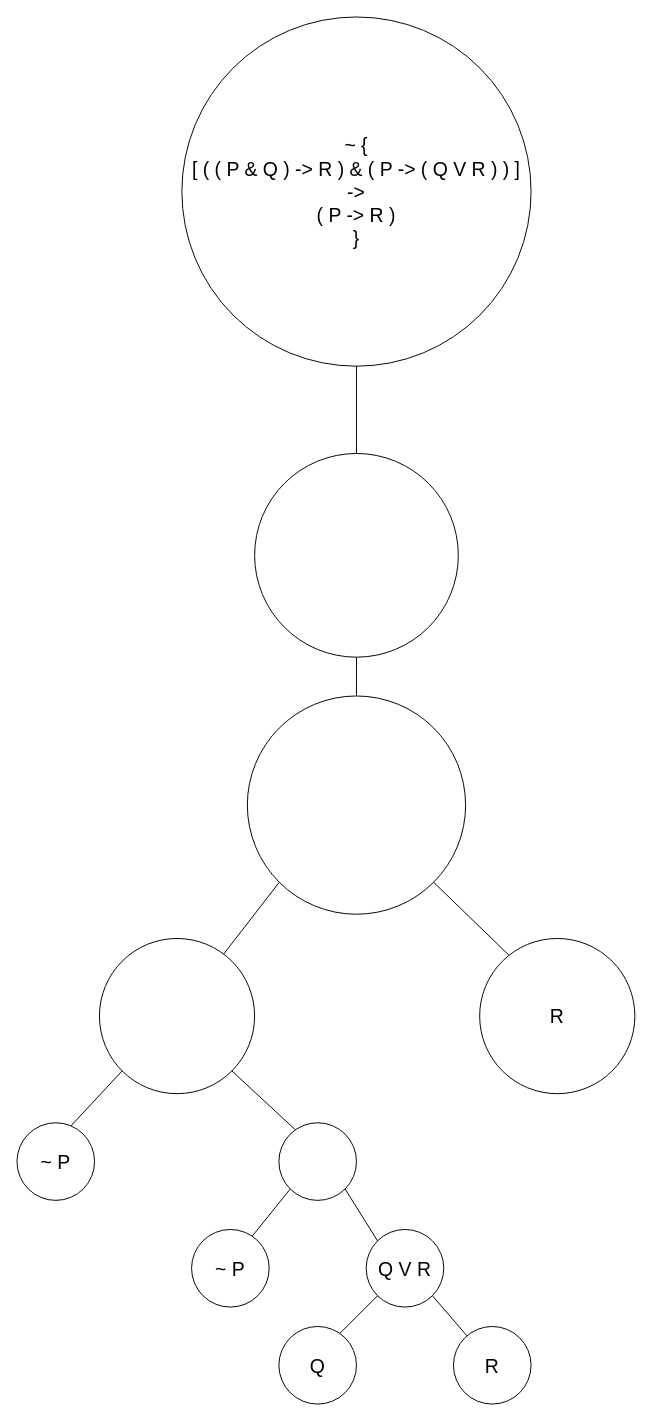
The diagram is 652 pixels wide and 1421 high, and some of its shapes have lost their labels. The shapes that lost their labels are listed below. From the top down, each one's centre as x and y in pixels, then its label:
the point at 356,555: ( ~ P V ~ Q ) V R ~ P V ( Q V R ) P & ~ R
the point at 356,804: ( ~ P V ~ Q ) V R ~ P V ( Q V R ) P ~ R
the point at 176,1016: ~ P V ~ Q
the point at 317,1161: ~ Q
